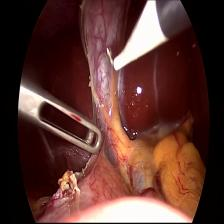Grasper: (18, 79, 106, 158)
Hook: (103, 0, 168, 80)
